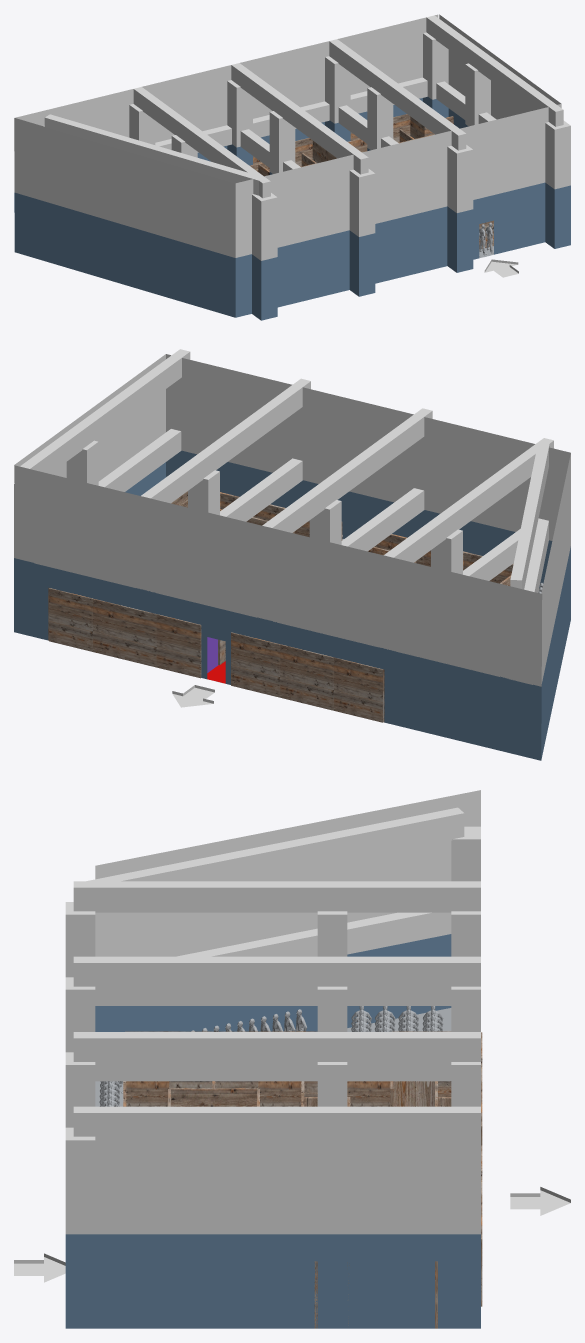
Rendered from entrada_laberinto.glb.
The picture shows the model from 3 angles, top to bottom: view 1: azimuth 30°, elevation 25°; view 2: azimuth 150°, elevation 25°; view 3: azimuth 270°, elevation 25°; orthographic projection. The views are drawn at different scales.
Parts seen in each view (by area): view 1: paredes_externas, Plane.013, Plane.014, Plane.012, Plane.015, Cube.007, Cube.004, Cube.003, Cube.008, Cube.005, Cube.010, Plane.003 (+11 smaller); view 2: paredes_externas, Cube.010, Cube.050, Cube.052, Cube.004, Cube.007, Cube.003, Cube.005, Plane.002, Plane.016, Cube.008, Cube.001 (+19 smaller); view 3: paredes_externas, Cube.004, Cube.005, Cube.003, Cube.008, Cube.001, Plane.012, Cube.002, Cube.009, Cube.007, Plane.006, Plane.002 (+19 smaller).
Boxes of the visible parts, x1,y1,x2,y2 form: paredes_externas: [14, 14, 561, 317]; Plane.013: [447, 145, 473, 272]; Plane.014: [349, 169, 375, 296]; Plane.012: [545, 120, 570, 248]; Plane.015: [252, 193, 277, 320]; Cube.007: [426, 15, 563, 126]; Cube.004: [231, 63, 368, 174]; Cube.003: [329, 39, 466, 150]; Cube.008: [44, 114, 261, 195]; Cube.005: [133, 87, 270, 198]; Cube.010: [155, 77, 427, 152]; Plane.003: [325, 56, 350, 141]; paredes_externas: [14, 354, 570, 760]; Cube.010: [34, 544, 532, 684]; Cube.050: [231, 632, 383, 722]; Cube.052: [49, 588, 201, 678]; Cube.004: [262, 408, 432, 532]; Cube.007: [20, 349, 190, 473]; Cube.003: [141, 378, 310, 503]; Cube.005: [384, 438, 553, 562]; Plane.002: [14, 483, 34, 634]; Plane.016: [500, 603, 520, 754]; Cube.008: [510, 442, 549, 589]; Cube.001: [341, 488, 424, 551]; paredes_externas: [95, 790, 480, 1328]; Cube.004: [73, 956, 480, 987]; Cube.005: [73, 881, 480, 912]; Cube.003: [73, 1032, 480, 1062]; Cube.008: [83, 807, 464, 887]; Cube.001: [95, 1063, 451, 1081]; Plane.012: [65, 1127, 95, 1328]; Cube.002: [95, 988, 451, 1005]; Cube.009: [177, 912, 451, 956]; Cube.007: [73, 1106, 480, 1136]; Plane.006: [317, 1140, 347, 1328]; Plane.002: [451, 1140, 480, 1328].
Size of the model in its own units: 26.08 by 7.89 by 18.77.
Materials: 14 (1 with a texture image).
